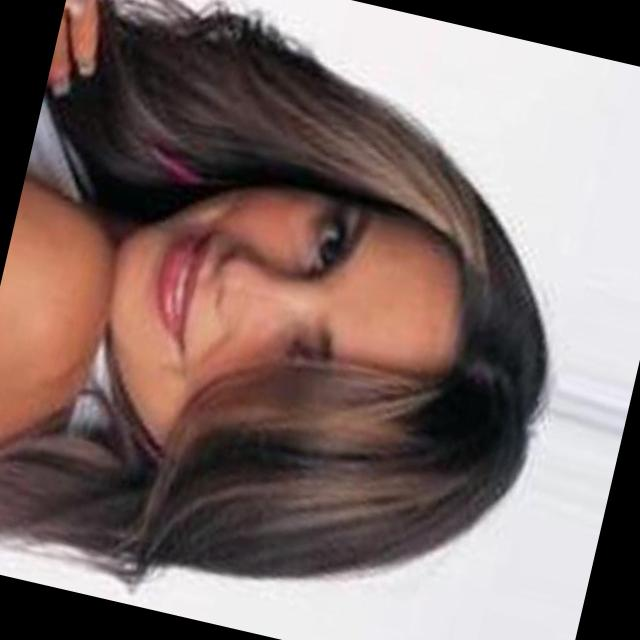bareface: (45, 136, 504, 532)
